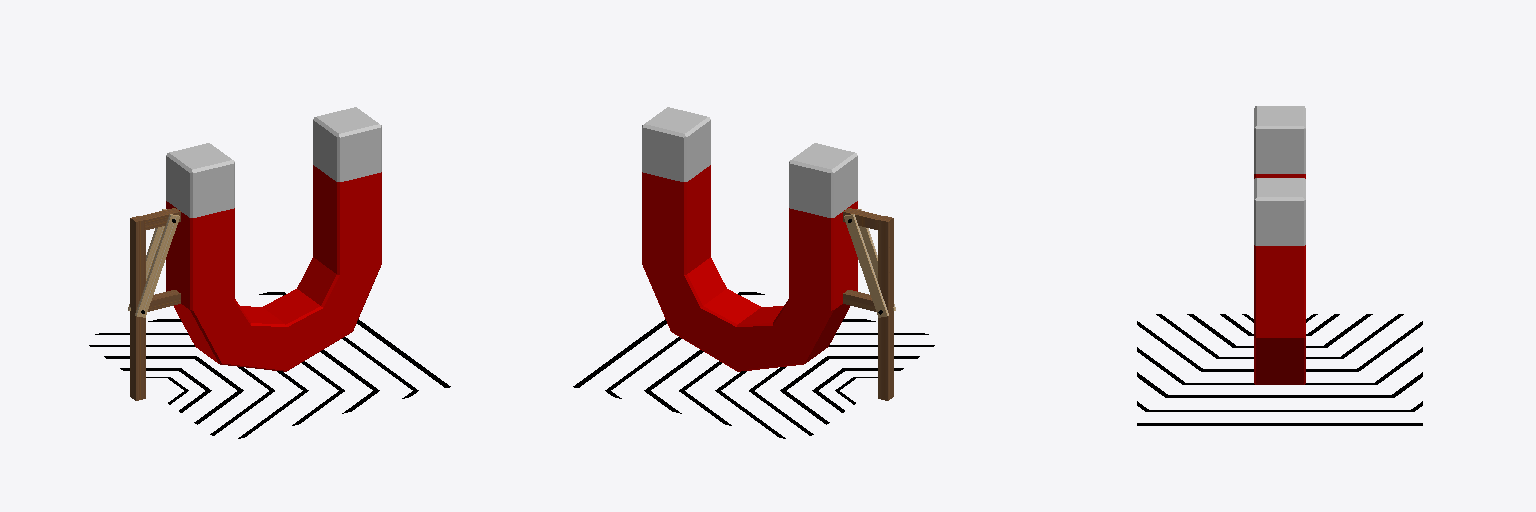
3 renders of one model, left to right at view 1: azimuth 30°, elevation 25°; view 2: azimuth 150°, elevation 25°; view 3: azimuth 270°, elevation 25°, orthographic.
Parts seen in each view (by area): view 1: Cube, Cylinder, Cube.002_Cube.006, Cube.001_Cube.011; view 2: Cube, Cylinder, Cube.002_Cube.006, Cube.006_Cube.010; view 3: Cube, Cylinder.
Part boxes in pixels (bbox=[...]): Cube: bbox=[166, 107, 381, 371]; Cylinder: bbox=[89, 292, 450, 438]; Cube.002_Cube.006: bbox=[130, 208, 180, 400]; Cube.001_Cube.011: bbox=[135, 214, 179, 317]; Cube: bbox=[642, 107, 857, 371]; Cylinder: bbox=[573, 292, 934, 438]; Cube.002_Cube.006: bbox=[843, 208, 893, 400]; Cube.006_Cube.010: bbox=[844, 214, 888, 317]; Cube: bbox=[1254, 106, 1305, 384]; Cylinder: bbox=[1137, 314, 1422, 425].
Bounding box in the file's own units: 3 × 2.62 × 3.
6 materials, 2 textured.